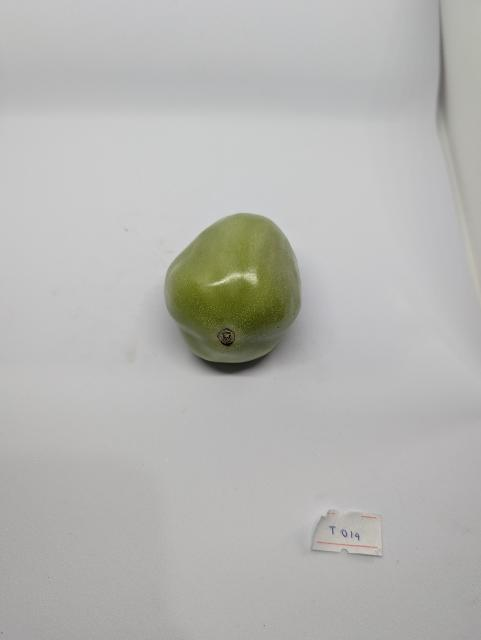green: (161, 212, 305, 366)
